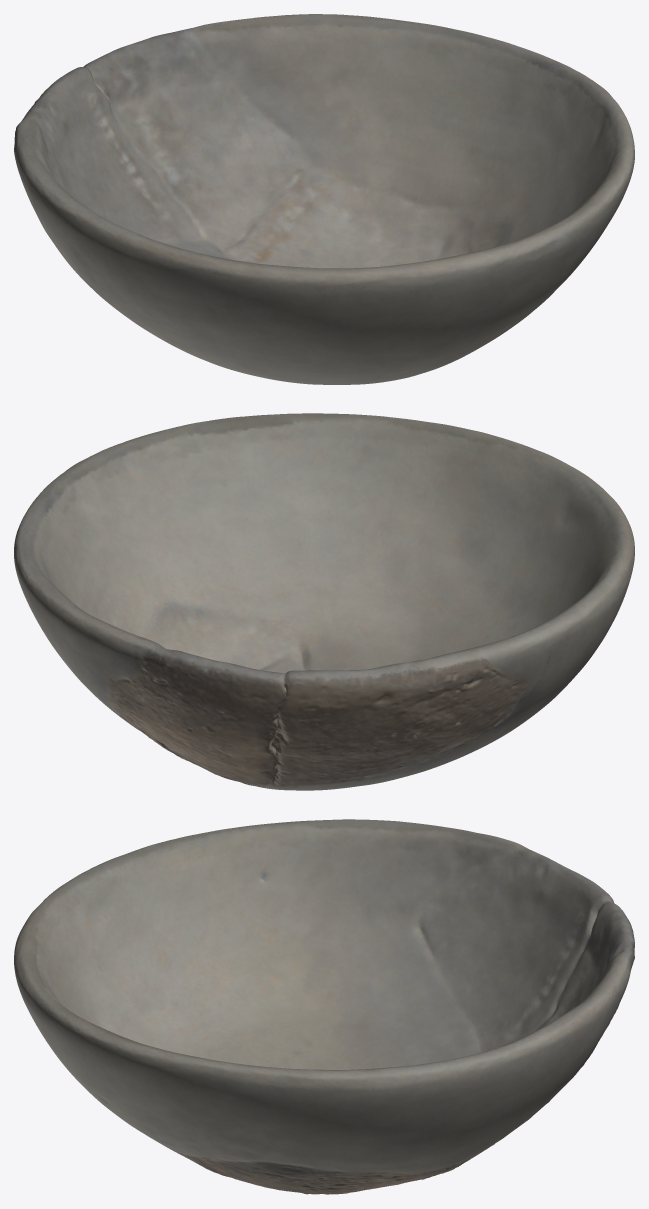
File: bowl_826eeb384b64.glb
The picture shows the model from 3 angles, top to bottom: view 1: azimuth 30°, elevation 25°; view 2: azimuth 150°, elevation 25°; view 3: azimuth 270°, elevation 25°; orthographic projection.
Visible parts, largest first — view 1: Geode; view 2: Geode; view 3: Geode.
Boxes of the visible parts, box(x1,y1,x2,y2) form: Geode: box(14, 14, 634, 384); Geode: box(14, 413, 634, 790); Geode: box(14, 819, 634, 1194).
Size of the model in its own units: 0.2096 by 0.0767 by 0.2116.
